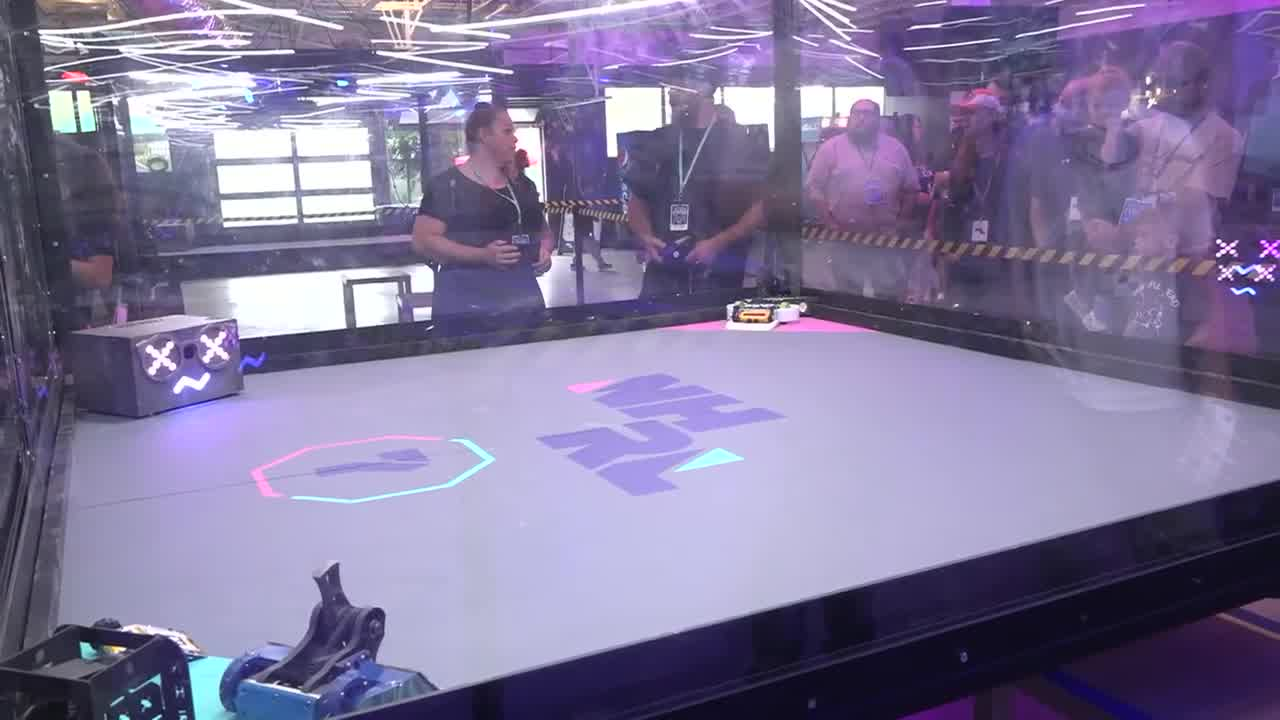combatbot: (220, 563, 438, 717), (725, 296, 810, 330)
housebot: (72, 313, 248, 417)
minibot: (90, 618, 205, 666)
